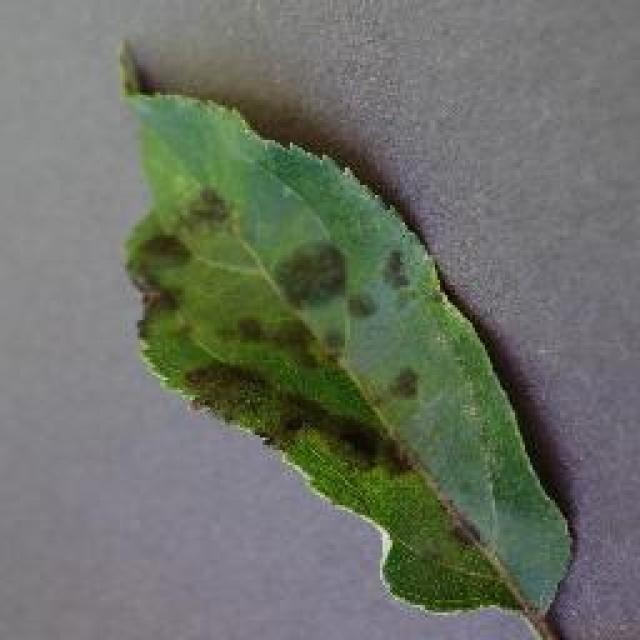apple scab disease: (112, 35, 580, 637)
